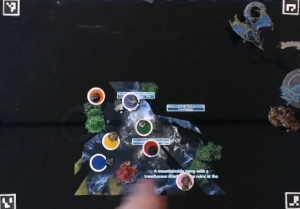blue: (89, 153, 109, 175)
green: (135, 117, 154, 137)
orange: (86, 85, 106, 106)
pink: (175, 172, 198, 190)
red: (142, 138, 161, 157)
violet: (120, 92, 142, 112)
yellow: (98, 131, 120, 149)
